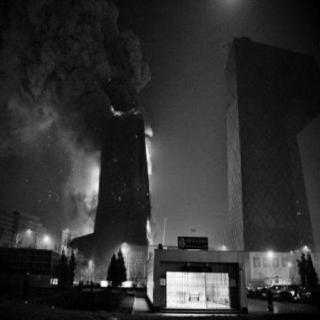other: (118, 240, 134, 272)
